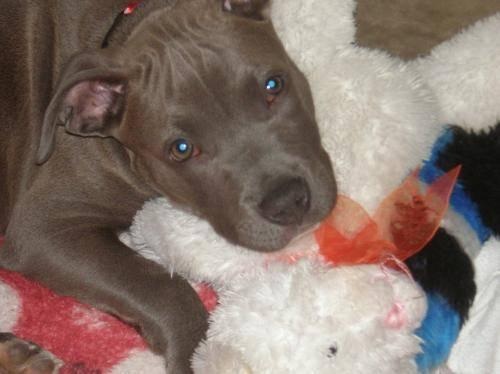dog: (5, 13, 338, 374)
